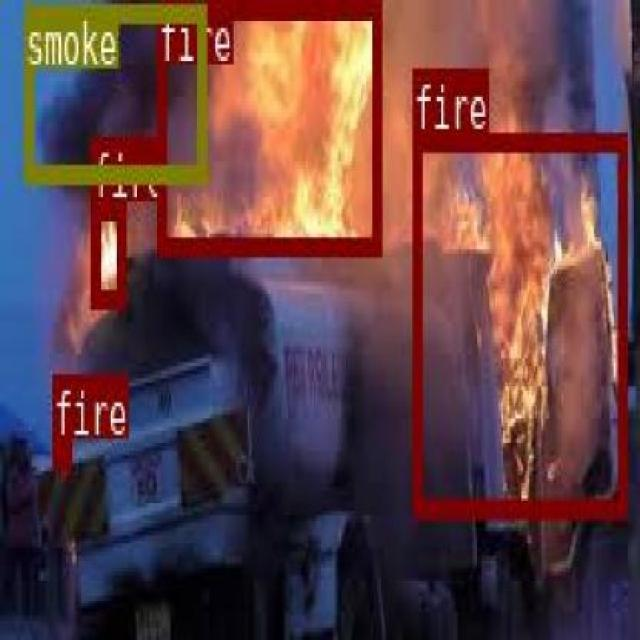CIV_Plane: (410, 130, 626, 516), (156, 0, 379, 249), (90, 200, 124, 302), (51, 434, 70, 466)
Fire: (410, 130, 626, 516), (156, 0, 379, 249), (90, 200, 124, 302), (51, 434, 70, 466)
Smoke: (54, 34, 173, 147)
